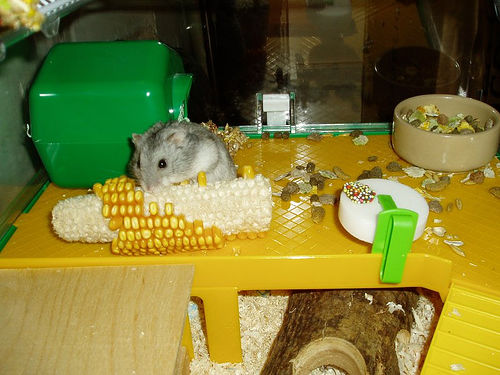corn: (51, 165, 271, 254)
